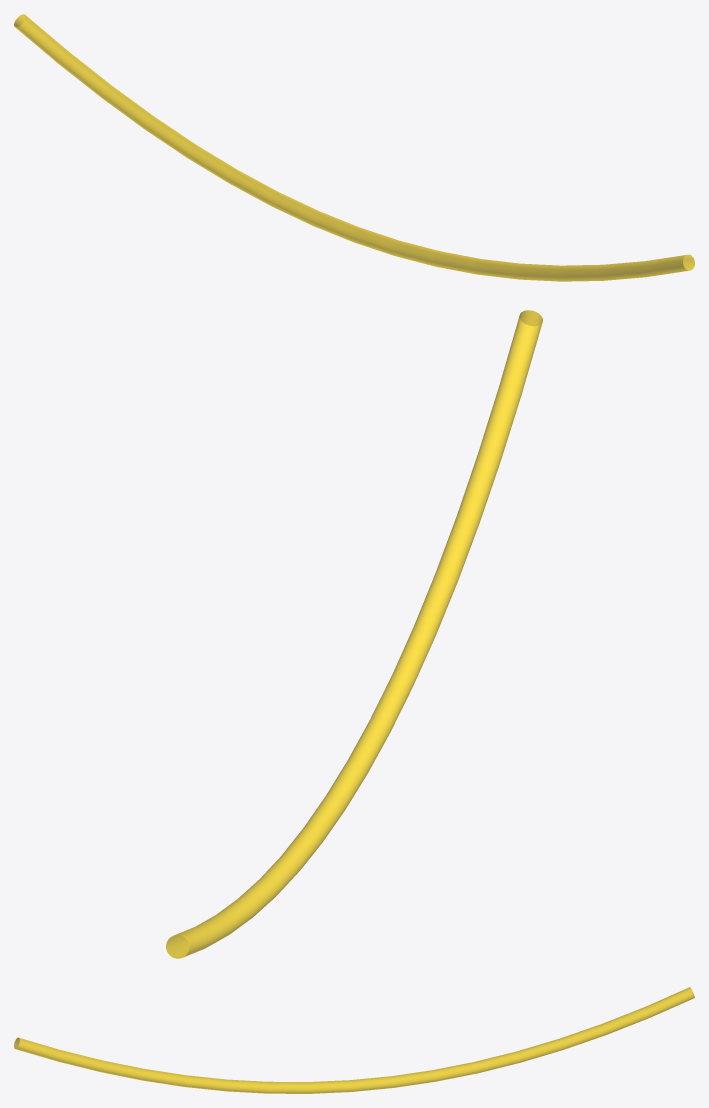
The model's file is Event_419990632_track_14.fbx.
The picture shows the model from 3 angles, top to bottom: view 1: azimuth 30°, elevation 25°; view 2: azimuth 150°, elevation 25°; view 3: azimuth 270°, elevation 25°; orthographic projection. The views are drawn at different scales.
Parts seen in each view (by area): view 1: Model; view 2: Model; view 3: Model.
Boxes of the visible parts, left/top/right/bottom form: Model: left=14, top=14, right=694, bottom=281; Model: left=166, top=310, right=542, bottom=958; Model: left=14, top=987, right=694, bottom=1093.
Size of the model in its own units: 0.6573 by 0.342 by 2.27.
